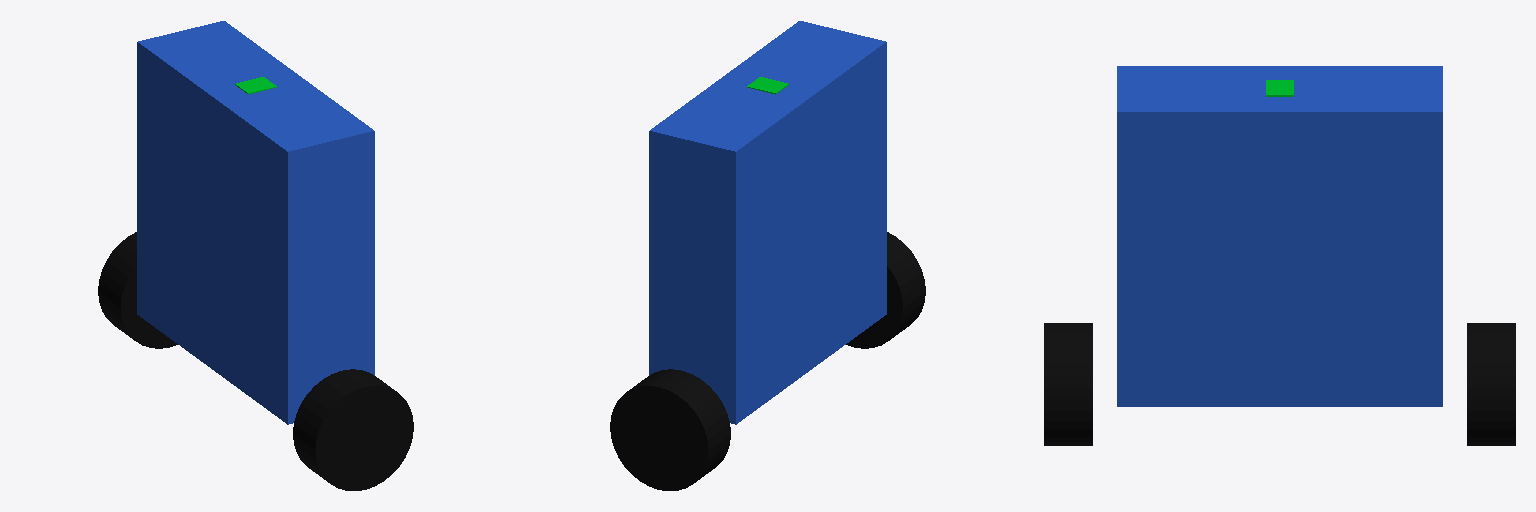
robot.urdf — balancebot_v2:
<?xml version="1.0" ?>
<!--
  balancebot_v2.urdf — v2_non_encoder_robot
  ==========================================

  PHYSICAL PARAMETERS (all measured/confirmed):
    Wheel radius:   0.034m  (68.1mm diameter, caliper measured)
    Wheel width:    0.027m  (27.0mm, caliper measured)
    Wheel base:     0.233m  (centre-to-centre, physically measured)
    Body width:     0.180m  (frame spec)
    Body height:    0.180m  (18cm, confirmed)
    Body depth:     0.060m  (estimated, adjust if needed)
    Body mass:      0.500kg (estimate, weigh after assembly)

  MOTOR: Cytron SPG30-20K
    12V, 225RPM, 128mNm torque, 20:1 gear ratio
    No encoder — velocity observations removed

  IMU: MPU6050
    Mounted at TOP of body, perfectly centred
    Provides: pitch, pitch_rate, yaw, yaw_rate
    In PyBullet: readings come from getBasePositionAndOrientation()
                 and getBaseVelocity() on base_link
    The imu_link here represents physical mass/position of MPU6050
    so centre of mass calculation is accurate

  COORDINATE SYSTEM:
    X = forward/backward
    Y = left/right
    Z = up (gravity = -Z)

  SPAWN HEIGHT = wheel radius = 0.034m
  so wheels sit exactly on ground plane at Z=0

  JOINT INDICES (used in balance_env_v2.py):
    joint 1 = left wheel
    joint 2 = right wheel
    joint 3 = imu (fixed — no movement)

  COMPONENT PLACEMENT (bottom to top from wheel axle):
    0.00m  wheel axle
    0.02m  L298N motor driver
    0.05m  Battery (GNB 1350mAh)
    0.08m  ESP32-S3
    0.11m  RPi Zero 2W
    0.18m  MPU6050 (top, centred) ← imu_link origin
-->

<robot name="balancebot_v2">

  <!-- ═══════════════════════════════════════════════════════════
       BASE LINK (robot body frame)
       Origin at wheel axle level, centred left-right and front-back
       Visual origin offset upward by half body height (0.09m)
  ═══════════════════════════════════════════════════════════ -->
  <link name="base_link">
    <visual>
      <origin xyz="0 0 0.09" rpy="0 0 0"/>
      <geometry>
        <box size="0.06 0.18 0.18"/>
      </geometry>
      <material name="blue">
        <color rgba="0.2 0.4 0.8 1.0"/>
      </material>
    </visual>
    <collision>
      <origin xyz="0 0 0.09" rpy="0 0 0"/>
      <geometry>
        <box size="0.06 0.18 0.18"/>
      </geometry>
    </collision>
    <inertial>
      <origin xyz="0 0 0.09" rpy="0 0 0"/>
      <mass value="0.500"/>
      <!--
        Inertia for box: width=0.06, depth=0.18, height=0.18, mass=0.5kg
        ixx = m/12 * (depth² + height²) = 0.5/12 * (0.18² + 0.18²) = 0.00270
        iyy = m/12 * (width² + height²) = 0.5/12 * (0.06² + 0.18²) = 0.00165
        izz = m/12 * (width² + depth²)  = 0.5/12 * (0.06² + 0.18²) = 0.00165
      -->
      <inertia ixx="0.00270" ixy="0.0" ixz="0.0"
               iyy="0.00165" iyz="0.0"
               izz="0.00165"/>
    </inertial>
  </link>

  <!-- ═══════════════════════════════════════════════════════════
       IMU LINK (MPU6050)
       Mounted at TOP of body frame, perfectly centred
       Fixed joint — does not move relative to body
       Mass included so CoM calculation is accurate
       In PyBullet: pitch/yaw readings come from base_link
                   since imu_link is rigidly attached
  ═══════════════════════════════════════════════════════════ -->
  <link name="imu_link">
    <visual>
      <origin xyz="0 0 0" rpy="0 0 0"/>
      <geometry>
        <!-- MPU6050 physical size: 20mm × 16mm × 1.5mm -->
        <box size="0.02 0.016 0.0015"/>
      </geometry>
      <material name="green">
        <color rgba="0.0 0.8 0.2 1.0"/>
      </material>
    </visual>
    <collision>
      <origin xyz="0 0 0" rpy="0 0 0"/>
      <geometry>
        <box size="0.02 0.016 0.0015"/>
      </geometry>
    </collision>
    <inertial>
      <origin xyz="0 0 0" rpy="0 0 0"/>
      <!-- MPU6050 weighs approximately 1g = 0.001kg -->
      <mass value="0.001"/>
      <inertia ixx="0.0000001" ixy="0.0" ixz="0.0"
               iyy="0.0000001" iyz="0.0"
               izz="0.0000001"/>
    </inertial>
  </link>

  <!-- Fixed joint — IMU rigidly attached at top of body, centred -->
  <joint name="imu_joint" type="fixed">
    <parent link="base_link"/>
    <child link="imu_link"/>
    <!--
      Position: top of body = 0.18m above axle, centred in X and Y
      xyz = (0, 0, 0.18) — top of body height
    -->
    <origin xyz="0 0 0.18" rpy="0 0 0"/>
  </joint>

  <!-- ═══════════════════════════════════════════════════════════
       LEFT WHEEL
       y offset = -wheel_base/2 = -0.1165m from centre
  ═══════════════════════════════════════════════════════════ -->
  <link name="left_wheel">
    <visual>
      <origin xyz="0 0 0" rpy="1.5707963 0 0"/>
      <geometry>
        <cylinder radius="0.034" length="0.027"/>
      </geometry>
      <material name="black">
        <color rgba="0.1 0.1 0.1 1.0"/>
      </material>
    </visual>
    <collision>
      <origin xyz="0 0 0" rpy="1.5707963 0 0"/>
      <geometry>
        <cylinder radius="0.034" length="0.027"/>
      </geometry>
    </collision>
    <inertial>
      <origin xyz="0 0 0" rpy="1.5707963 0 0"/>
      <mass value="0.050"/>
      <!--
        Inertia for cylinder: radius=0.034, length=0.027, mass=0.05kg
        ixx = iyy = m/12 * (3r² + l²) = 0.05/12 * (3×0.034² + 0.027²) = 0.0000148
        izz = m/2 * r²                 = 0.05/2  * 0.034²               = 0.0000289
      -->
      <inertia ixx="0.0000148" ixy="0.0" ixz="0.0"
               iyy="0.0000148" iyz="0.0"
               izz="0.0000289"/>
    </inertial>
  </link>

  <joint name="left_wheel_joint" type="continuous">
    <parent link="base_link"/>
    <child link="left_wheel"/>
    <!-- y = -wheel_base/2 = -0.233/2 = -0.1165m -->
    <origin xyz="0 -0.1165 0" rpy="0 0 0"/>
    <axis xyz="0 1 0"/>
    <dynamics damping="0.01" friction="0.01"/>
  </joint>

  <!-- ═══════════════════════════════════════════════════════════
       RIGHT WHEEL
       y offset = +wheel_base/2 = +0.1165m from centre
  ═══════════════════════════════════════════════════════════ -->
  <link name="right_wheel">
    <visual>
      <origin xyz="0 0 0" rpy="1.5707963 0 0"/>
      <geometry>
        <cylinder radius="0.034" length="0.027"/>
      </geometry>
      <material name="black">
        <color rgba="0.1 0.1 0.1 1.0"/>
      </material>
    </visual>
    <collision>
      <origin xyz="0 0 0" rpy="1.5707963 0 0"/>
      <geometry>
        <cylinder radius="0.034" length="0.027"/>
      </geometry>
    </collision>
    <inertial>
      <origin xyz="0 0 0" rpy="1.5707963 0 0"/>
      <mass value="0.050"/>
      <inertia ixx="0.0000148" ixy="0.0" ixz="0.0"
               iyy="0.0000148" iyz="0.0"
               izz="0.0000289"/>
    </inertial>
  </link>

  <joint name="right_wheel_joint" type="continuous">
    <parent link="base_link"/>
    <child link="right_wheel"/>
    <!-- y = +wheel_base/2 = +0.233/2 = +0.1165m -->
    <origin xyz="0 0.1165 0" rpy="0 0 0"/>
    <axis xyz="0 1 0"/>
    <dynamics damping="0.01" friction="0.01"/>
  </joint>

</robot>

--- Render facts (derived) ---
3 views of the same robot in one strip: view 1: azimuth 30°, elevation 25°; view 2: azimuth 150°, elevation 25°; view 3: azimuth 270°, elevation 25° (orthographic).
Model balancebot_v2 with 4 links and 3 joints (2 continuous, 1 fixed), rooted at base_link, posed all joints at 0.
Links seen in each view (by area): view 1: base_link, left_wheel, right_wheel; view 2: base_link, right_wheel, left_wheel; view 3: base_link, left_wheel, right_wheel.
Link boxes in pixels (x1,y1,x2,y2): base_link: [137, 21, 374, 424]; left_wheel: [293, 369, 413, 490]; right_wheel: [98, 232, 177, 348]; base_link: [649, 21, 886, 424]; right_wheel: [610, 369, 730, 490]; left_wheel: [846, 232, 925, 348]; base_link: [1117, 66, 1442, 406]; left_wheel: [1044, 323, 1092, 445]; right_wheel: [1467, 323, 1515, 445].
Size in the robot's own frame: 0.068 by 0.26 by 0.2147 metres.
Geometry: primitives only (box / cylinder / sphere), no mesh files.
